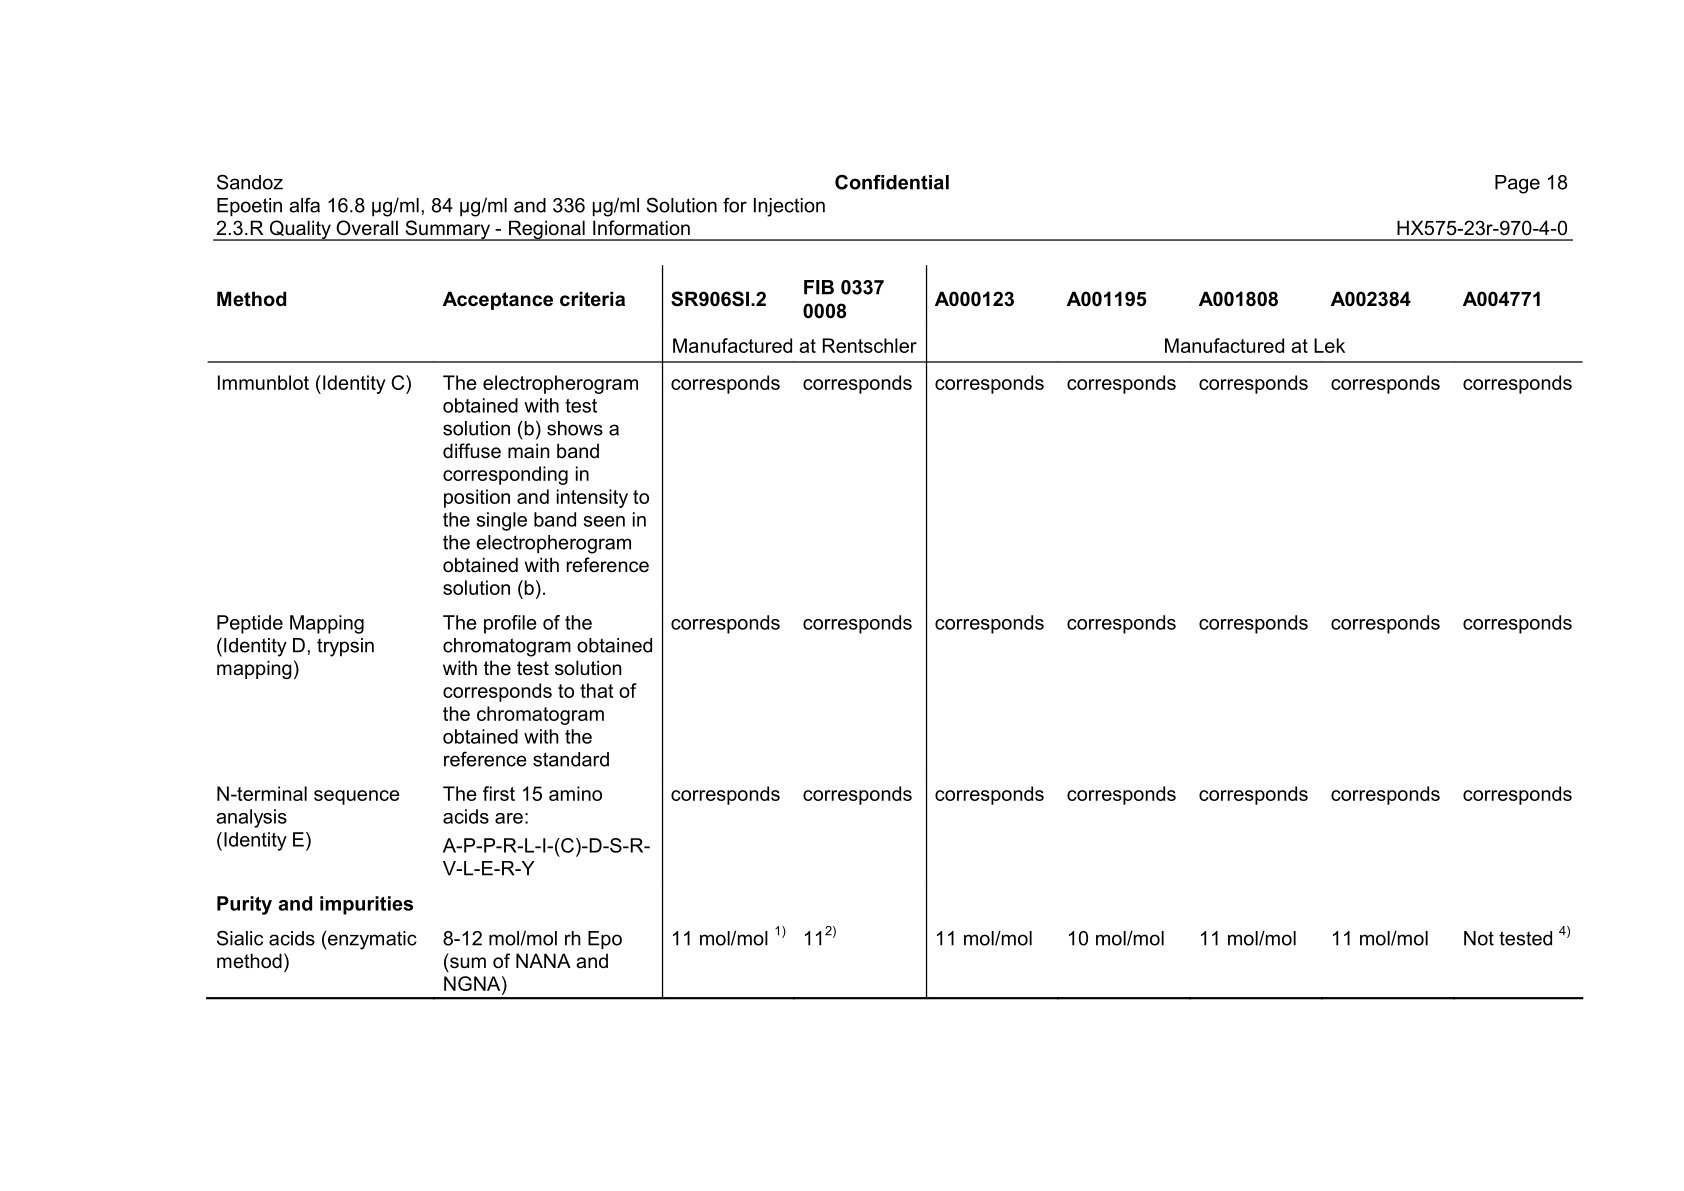partial_lined_merged_cells: (206, 238, 1584, 1002)
